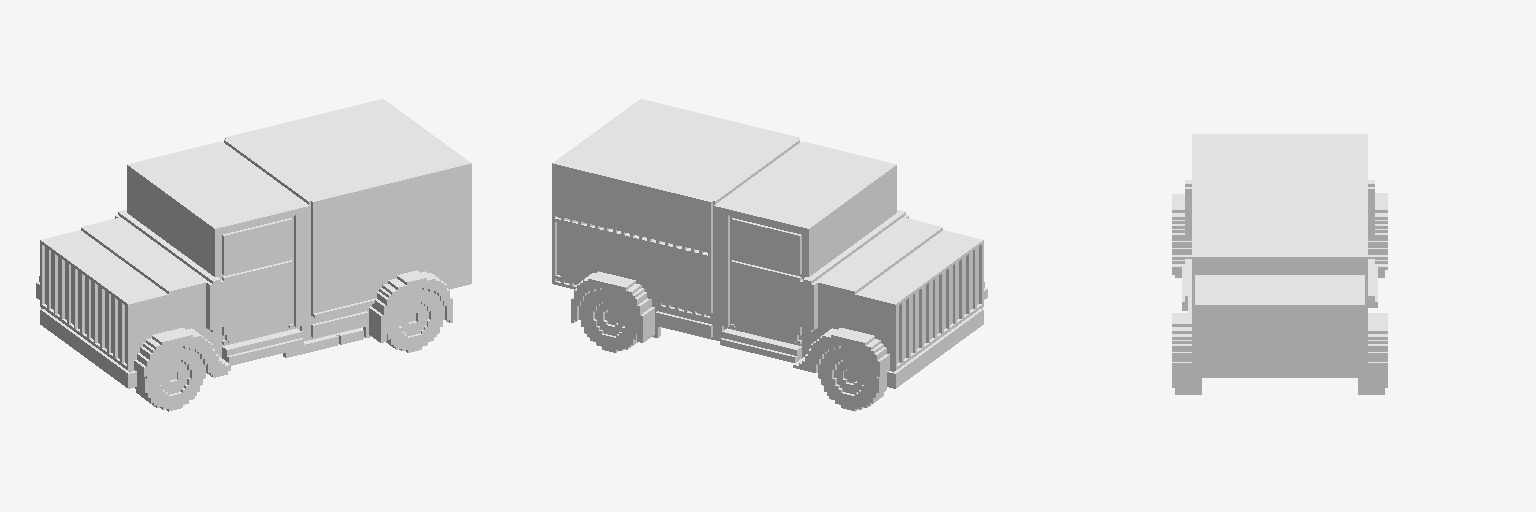
The model's file is caminhao.obj.
The picture shows the model from 3 angles: view 1: azimuth 30°, elevation 25°; view 2: azimuth 150°, elevation 25°; view 3: azimuth 270°, elevation 25°; orthographic projection.
Size of the model in its own units: 119 by 55 by 65.